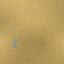person: (12, 38, 17, 47)
